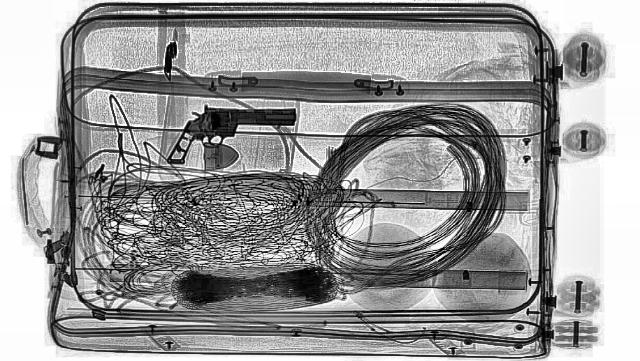Gun: (165, 104, 299, 166)
